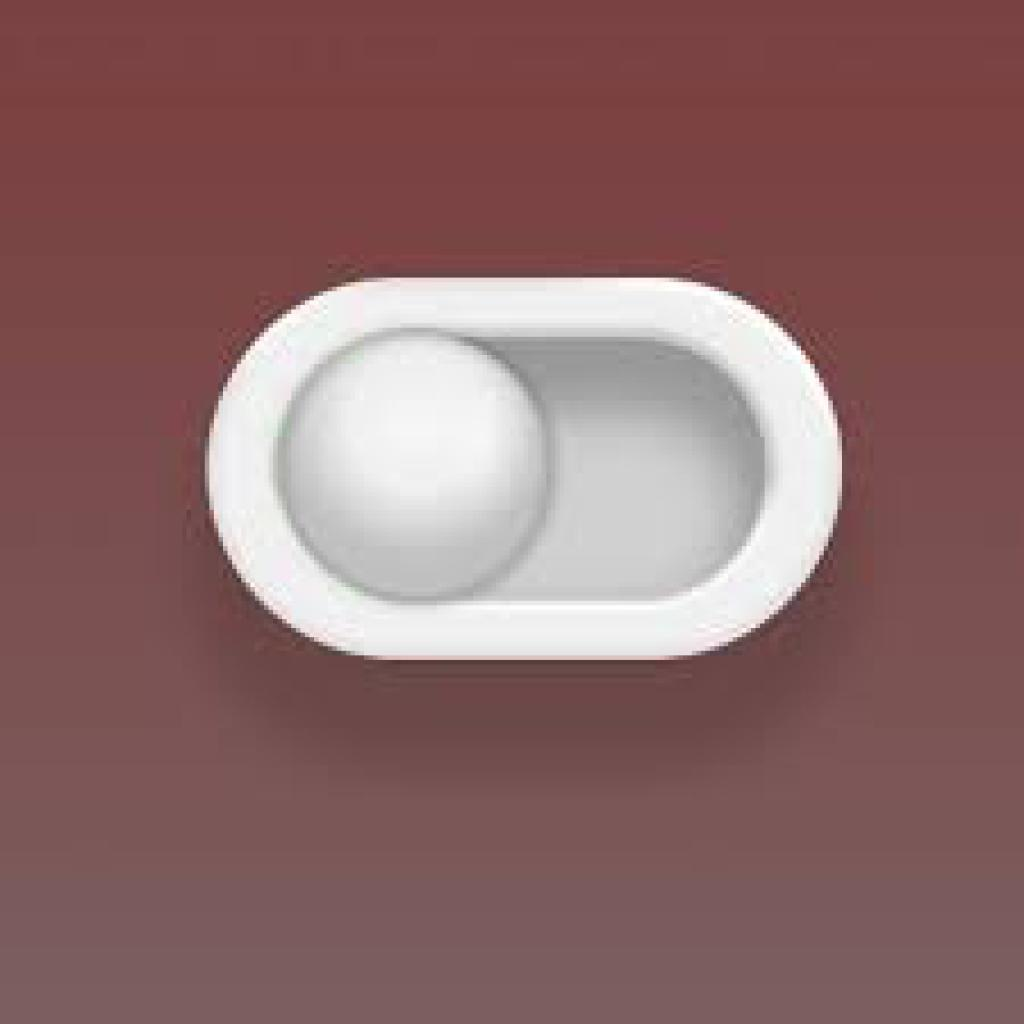switch: (202, 279, 842, 665)
